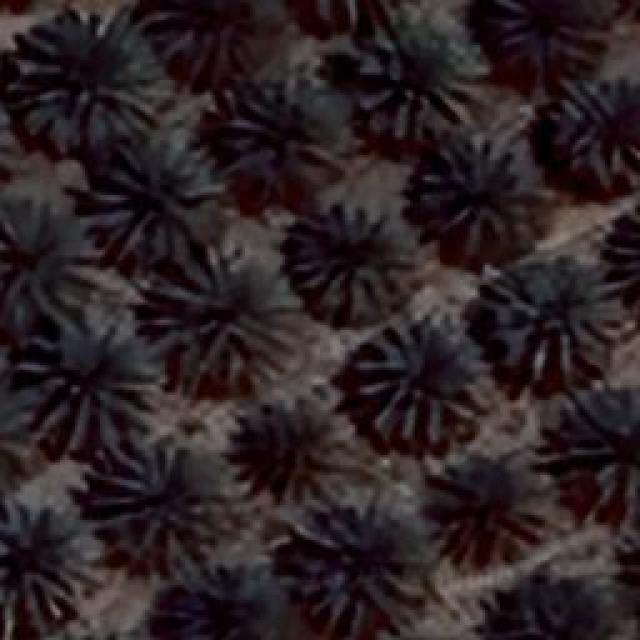PalmTree: (145, 240, 300, 390), (5, 10, 170, 148), (115, 36, 542, 82), (19, 315, 162, 450), (355, 310, 490, 448), (92, 440, 232, 565), (488, 258, 630, 380), (355, 8, 483, 142), (80, 135, 220, 255), (292, 512, 418, 630), (287, 200, 405, 320), (0, 195, 98, 323), (410, 137, 522, 245), (434, 462, 546, 560), (0, 500, 85, 628), (560, 380, 638, 512), (225, 80, 333, 172), (550, 77, 638, 185), (150, 575, 292, 640), (245, 401, 333, 501), (496, 582, 616, 640), (606, 196, 640, 318), (0, 372, 32, 497), (114, 41, 220, 73), (274, 0, 414, 22), (24, 618, 160, 640), (24, 624, 164, 640), (361, 624, 484, 640), (624, 505, 640, 626), (0, 85, 15, 199), (0, 88, 12, 202), (629, 512, 640, 632)
